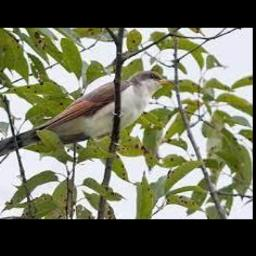Cuckoo: (0, 70, 179, 162)
